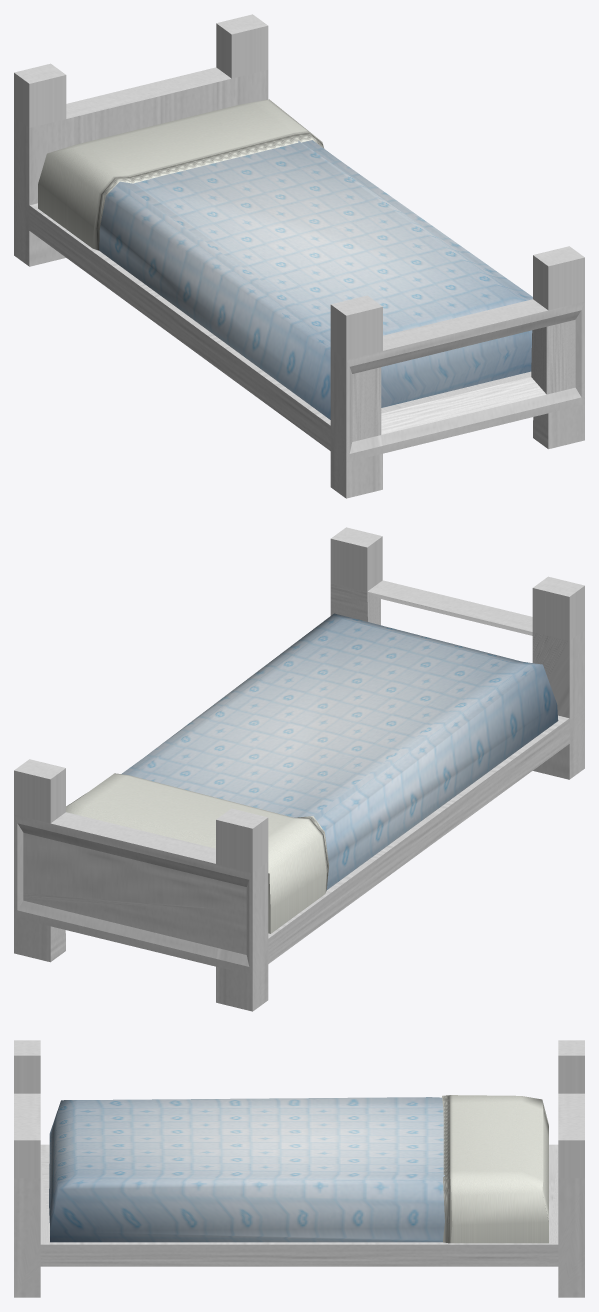
Rendered from Kiddie_Bed_D.FBX.
3 renders of one model, top to bottom at view 1: azimuth 30°, elevation 25°; view 2: azimuth 150°, elevation 25°; view 3: azimuth 270°, elevation 25°, orthographic. The views are drawn at different scales.
Visible parts, largest first — view 1: Kiddie_Bed; view 2: Kiddie_Bed; view 3: Kiddie_Bed.
Boxes of the visible parts, box(x1,y1,x2,y2) form: Kiddie_Bed: box(14, 14, 584, 498); Kiddie_Bed: box(14, 527, 584, 1011); Kiddie_Bed: box(14, 1040, 584, 1297).
Size of the model in its own units: 185 by 135 by 445.
